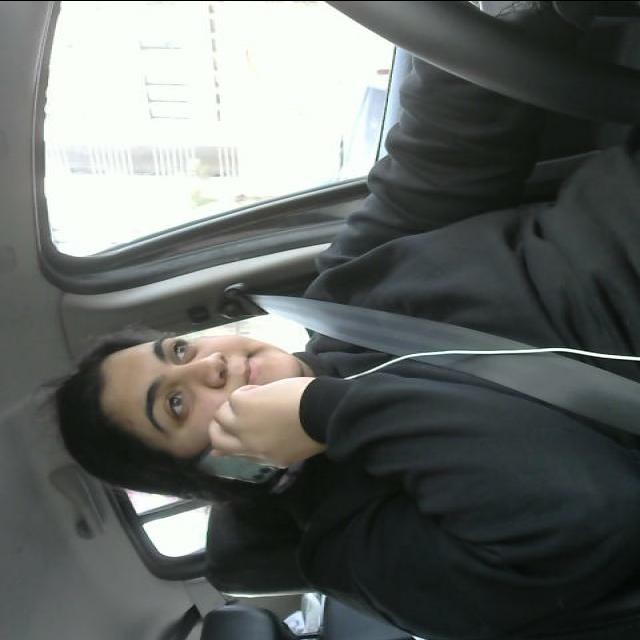mobile use: (190, 394, 306, 490)
